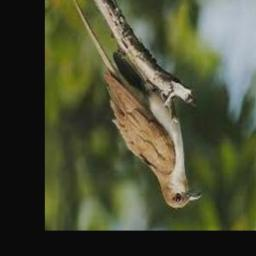Cuckoo: (71, 0, 202, 209)
